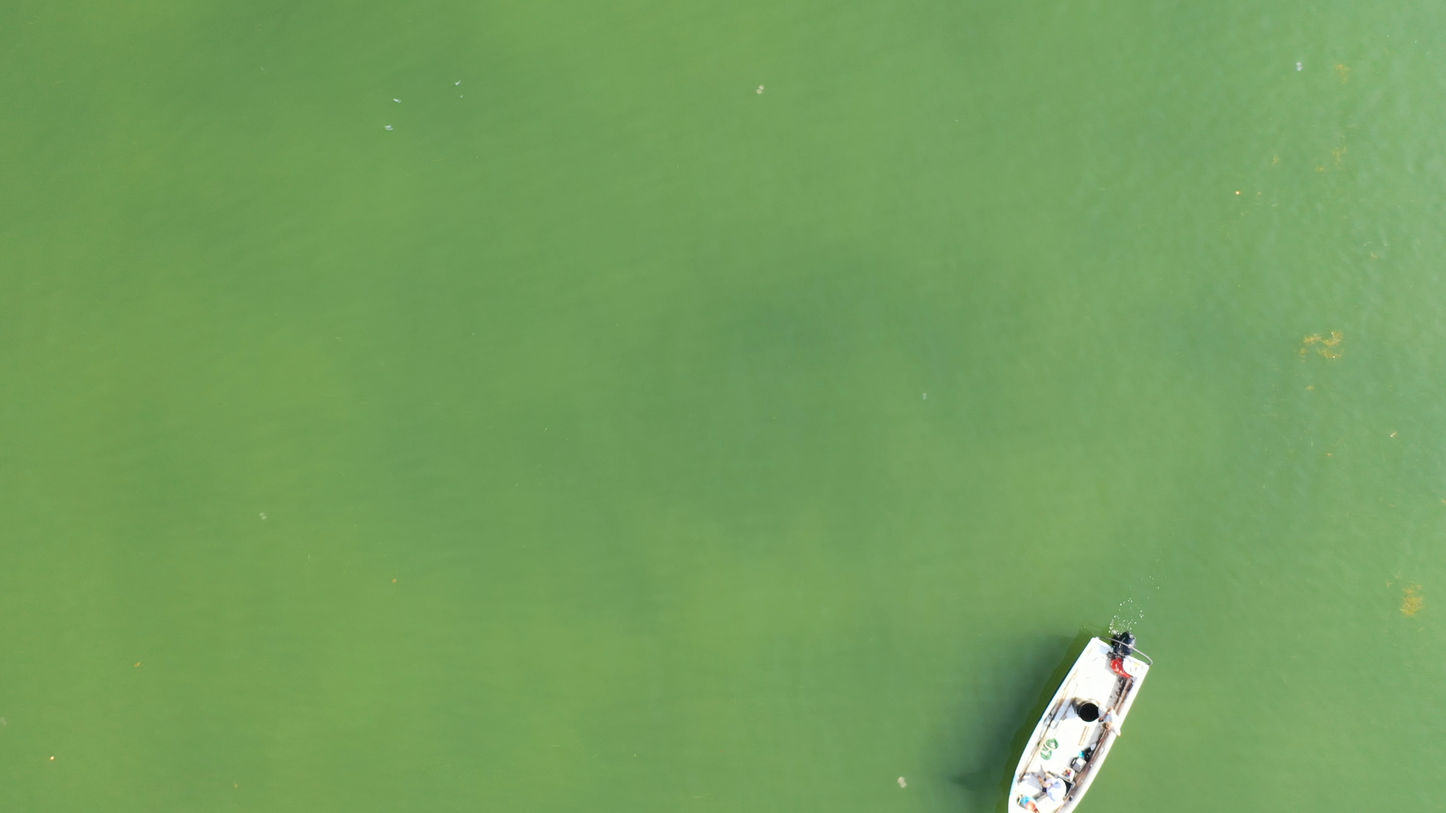meduse: (897, 776, 908, 789), (756, 85, 764, 95), (1295, 61, 1303, 71), (259, 512, 267, 521), (0, 717, 8, 725), (921, 394, 929, 401)
